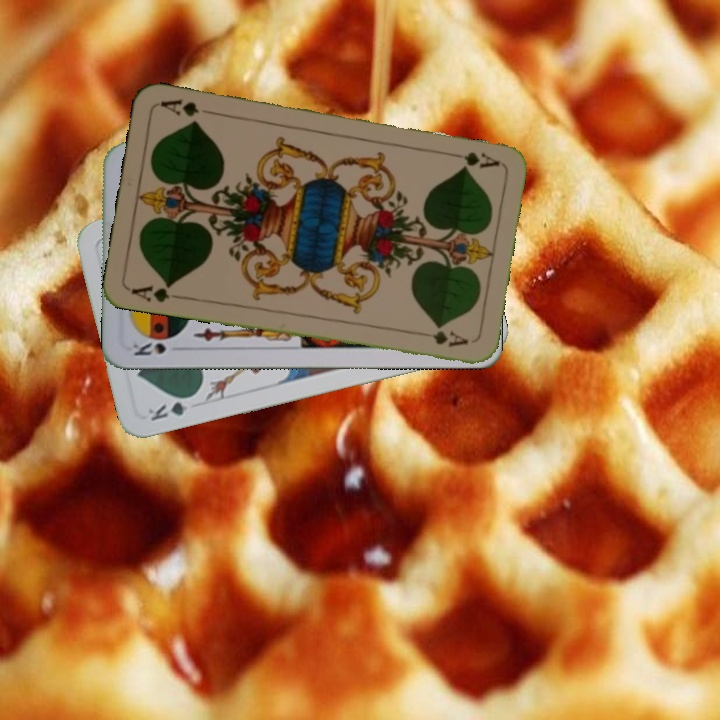GA: (127, 279, 186, 305), (443, 147, 502, 171)
GK: (144, 391, 199, 424)
SK: (129, 337, 186, 358)
